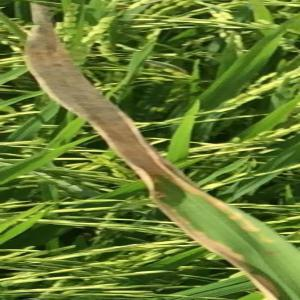Bacterial_Blight: (146, 162, 291, 300)
